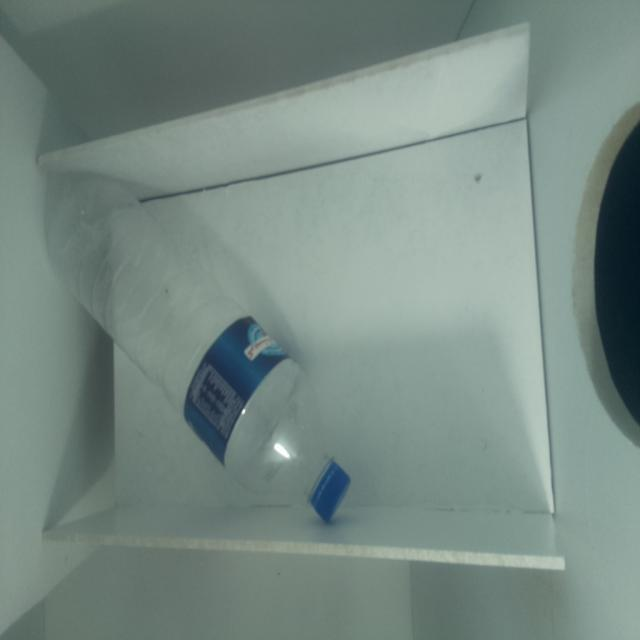chai: (51, 176, 330, 504)
